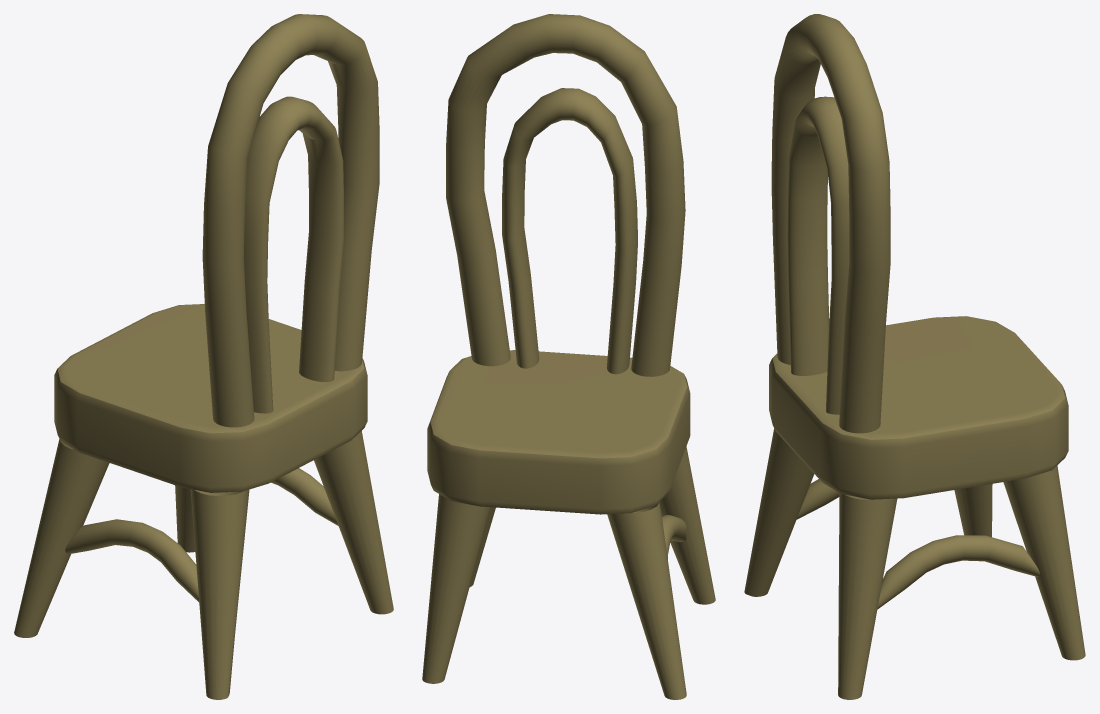
File: Chair.fbx
3 views of the same model, side by side, from view 1: azimuth 30°, elevation 25°; view 2: azimuth 150°, elevation 25°; view 3: azimuth 270°, elevation 25° (orthographic). The views are drawn at different scales.
Visible parts, largest first — view 1: pDisc8; view 2: pDisc8; view 3: pDisc8.
Boxes of the visible parts, bbox=[...] form: pDisc8: bbox=[14, 14, 393, 699]; pDisc8: bbox=[422, 14, 715, 699]; pDisc8: bbox=[744, 14, 1085, 699].
Bounding box in the file's own units: 1.51 × 2.86 × 1.42.
